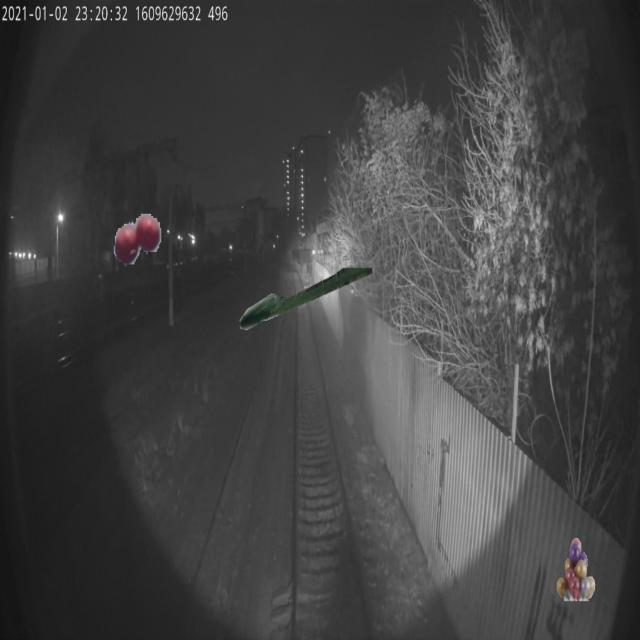balloon: (113, 204, 162, 268), (556, 537, 596, 601)
floating object: (238, 268, 374, 332)
